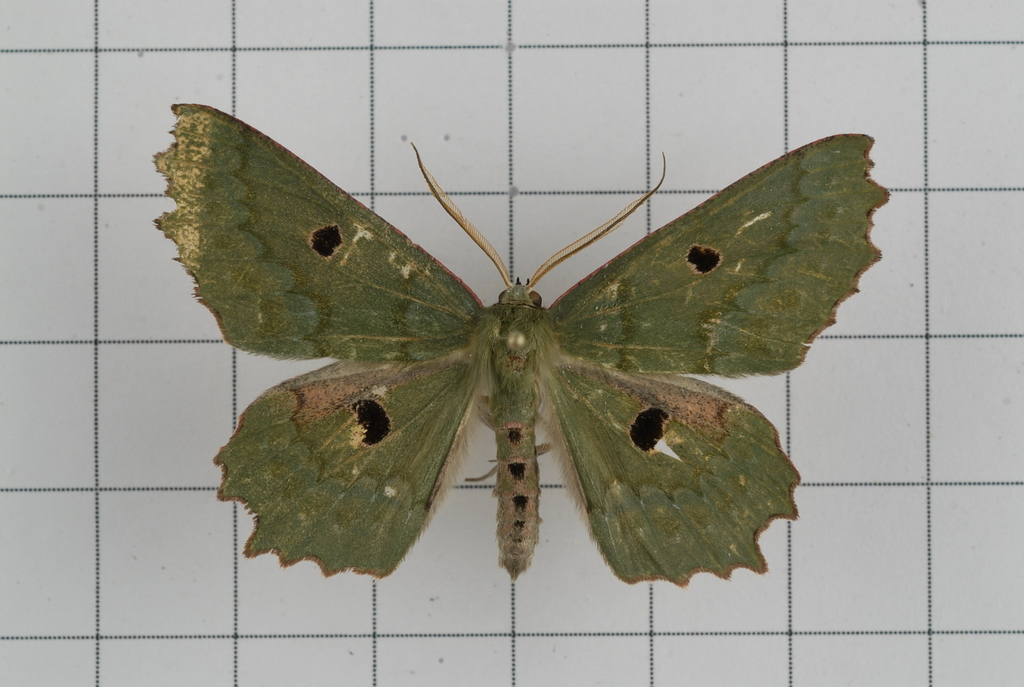Butterfly: (138, 87, 897, 622)
